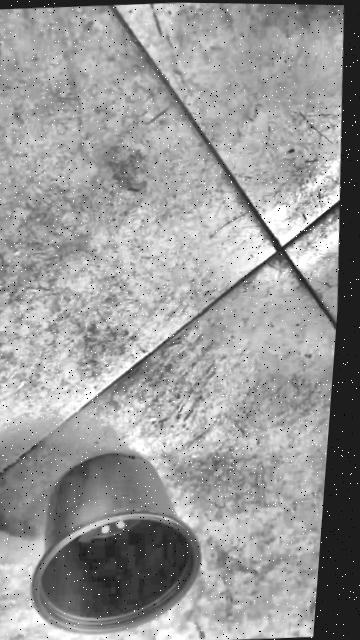pot: (20, 448, 213, 639)
